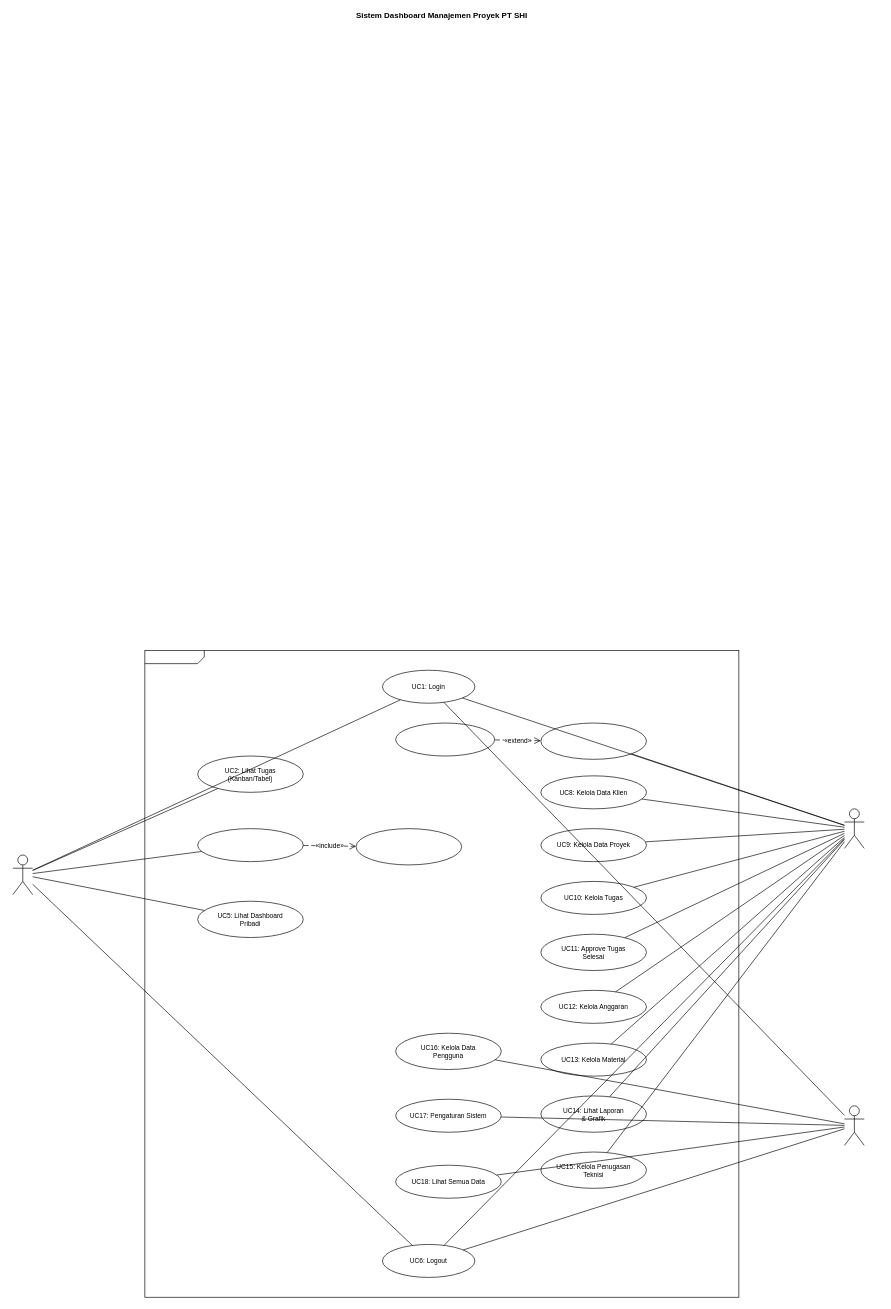
The diagram is 891 pixels wide and 1309 high, and some of its shapes have lost their labels. Each missing label, with the centre of its shape:
"Admin" goes at (x=854, y=1125).
"EWS Alert Notification" goes at (x=445, y=739).
"Manajer Proyek" goes at (x=854, y=828).
"Teknisi" goes at (x=22, y=874).
"UC3: Ubah Status Tugas" goes at (x=250, y=845).
"UC4: Unggah Bukti Pekerjaan" goes at (x=408, y=846).
"UC7: Lihat Dashboard Proyek" goes at (x=593, y=740).
